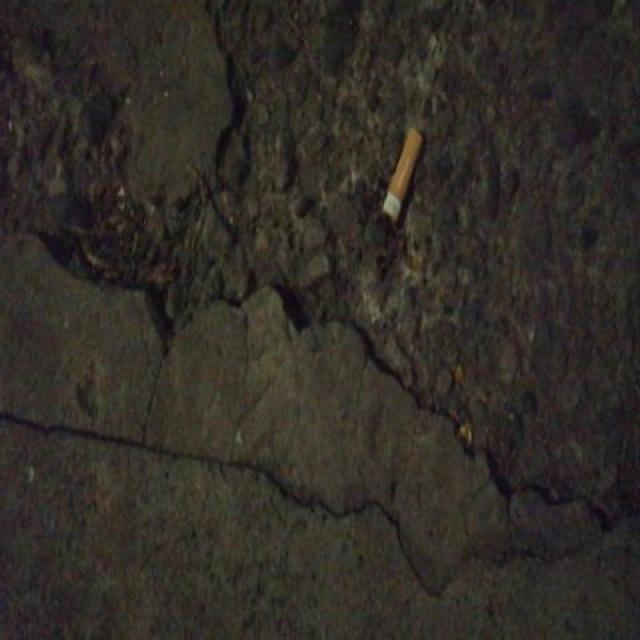non-organic waste: (377, 120, 427, 228)
